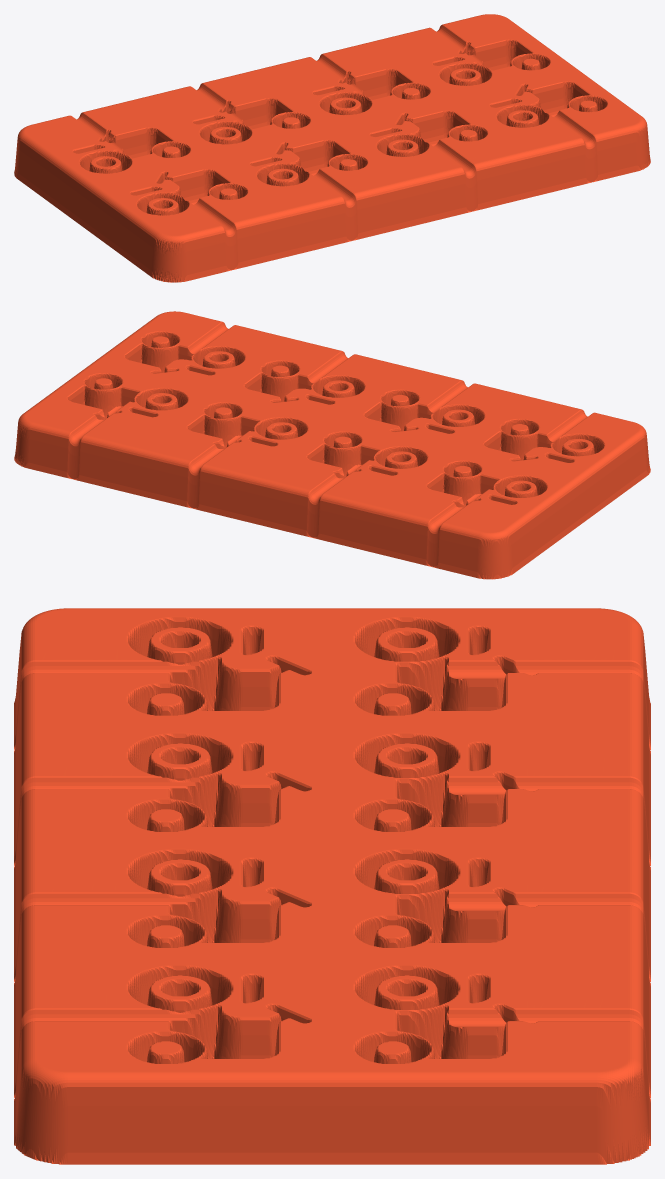
File: mold.glb
3 views of the same model, one above another, from view 1: azimuth 30°, elevation 25°; view 2: azimuth 150°, elevation 25°; view 3: azimuth 270°, elevation 25° (orthographic). The views are drawn at different scales.
Parts seen in each view (by area): view 1: geometry_0; view 2: geometry_0; view 3: geometry_0.
Part boxes in pixels (<box>): geometry_0: <box>14,14,650,282</box>; geometry_0: <box>14,311,650,579</box>; geometry_0: <box>14,608,650,1164</box>.
Size of the model in its own units: 0.1907 by 0.0155 by 0.1069.
